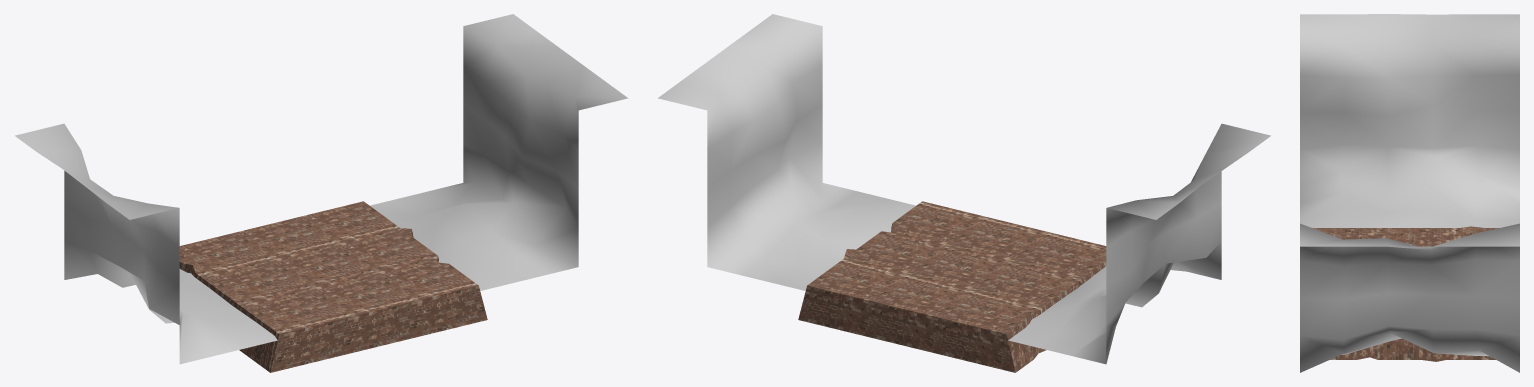
Rendered from tile_natural1tilted.fbx.
3 views of the same model, side by side, from view 1: azimuth 30°, elevation 25°; view 2: azimuth 150°, elevation 25°; view 3: azimuth 270°, elevation 25° (orthographic). The views are drawn at different scales.
Parts seen in each view (by area): view 1: tilenatural1tilted; view 2: tilenatural1tilted; view 3: tilenatural1tilted.
Boxes of the visible parts, x1=… form: tilenatural1tilted: x1=15, y1=14, x2=627, y2=372; tilenatural1tilted: x1=658, y1=14, x2=1270, y2=372; tilenatural1tilted: x1=1300, y1=14, x2=1519, y2=372.
Bounding box in the file's own units: 5000 × 2000 × 1799.
